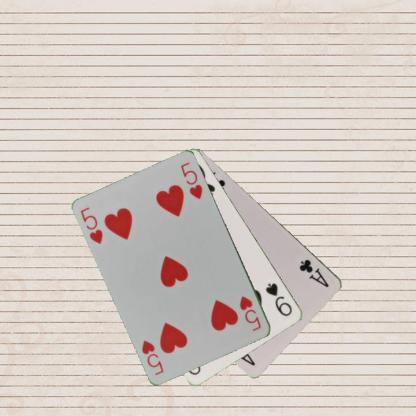5h: (78, 204, 105, 245), (237, 293, 263, 333)
9s: (263, 280, 294, 318)
Ac: (297, 256, 330, 289)
